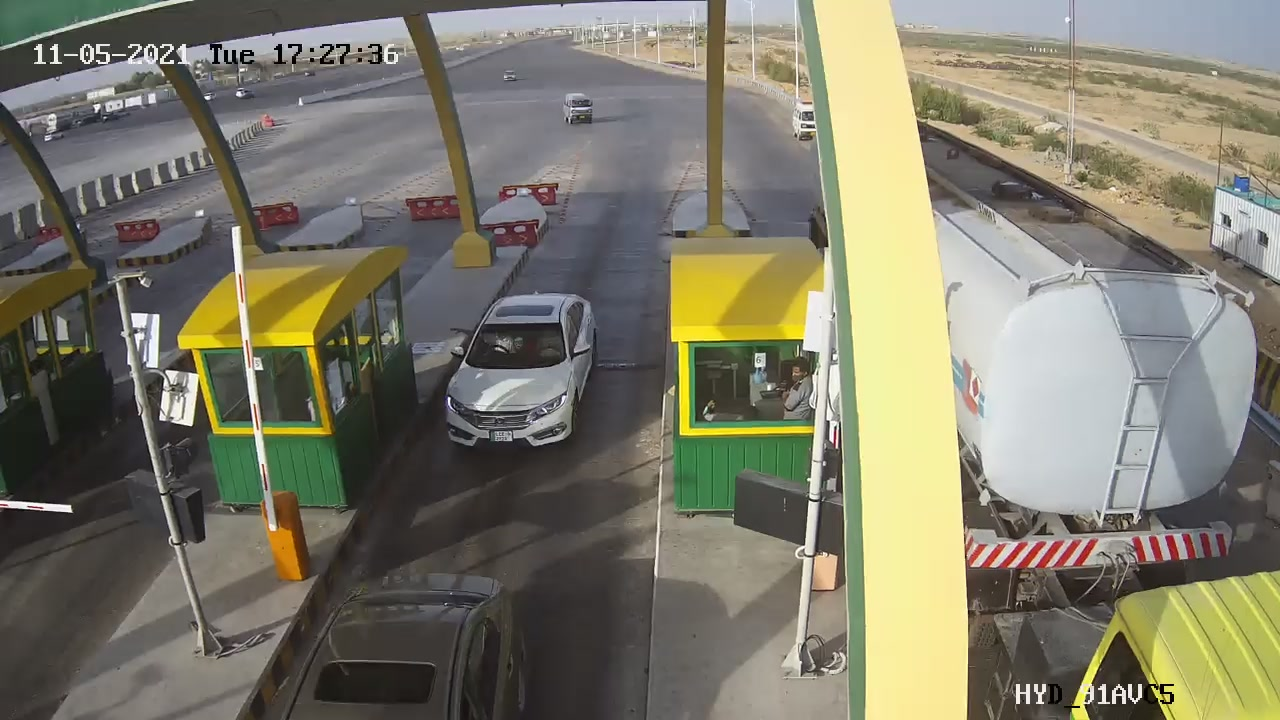F1: (422, 278, 620, 472)
